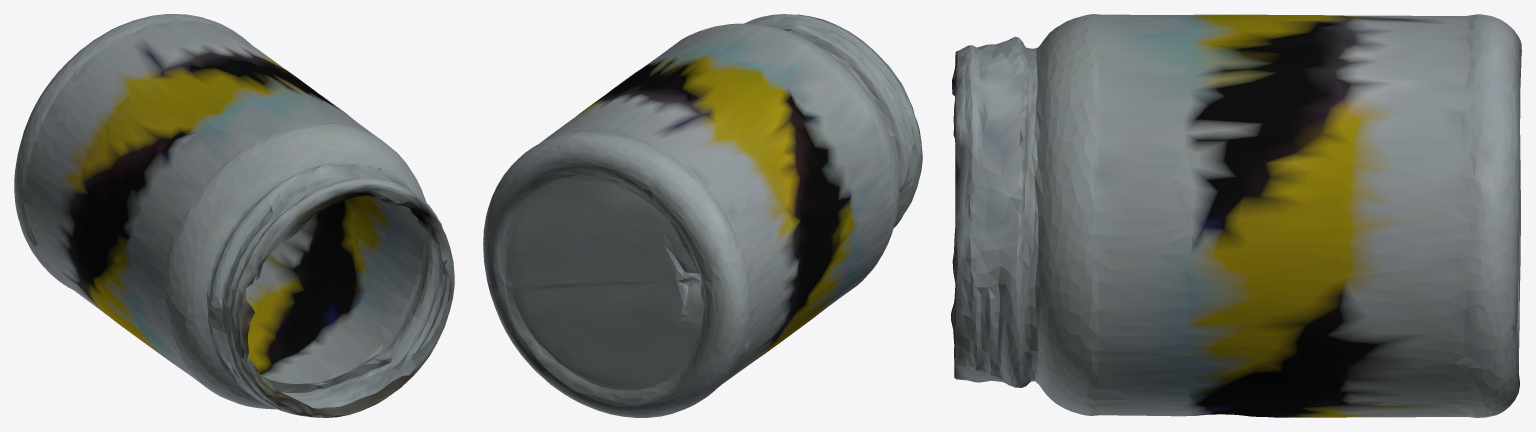
Rendered from scan.obj.
The picture shows the model from 3 angles, left to right: view 1: azimuth 30°, elevation 25°; view 2: azimuth 150°, elevation 25°; view 3: azimuth 270°, elevation 25°; orthographic projection. The views are drawn at different scales.
Visible parts, largest first — view 1: scan.ply; view 2: scan.ply; view 3: scan.ply.
Part boxes in pixels (<box>): scan.ply: <box>14,14,454,417</box>; scan.ply: <box>483,14,922,417</box>; scan.ply: <box>951,14,1521,417</box>.
Bounding box in the file's own units: 0.1291 × 0.1302 × 0.1837.
